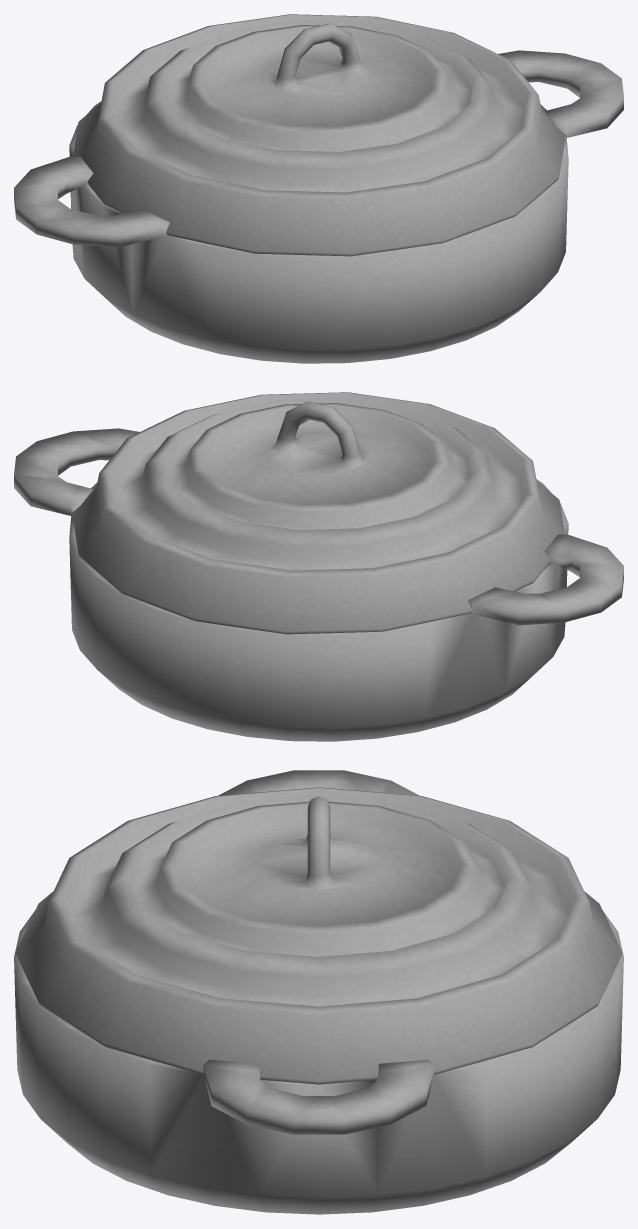
The model's file is cookingpot_001.glb.
3 views of the same model, one above another, from view 1: azimuth 30°, elevation 25°; view 2: azimuth 150°, elevation 25°; view 3: azimuth 270°, elevation 25° (orthographic). The views are drawn at different scales.
Parts seen in each view (by area): view 1: cookingpot.004, cookingpot.001; view 2: cookingpot.004, cookingpot.001; view 3: cookingpot.004, cookingpot.001.
Boxes of the visible parts, <box> form: cookingpot.004: <box>73,14,565,256</box>; cookingpot.001: <box>14,50,623,363</box>; cookingpot.004: <box>72,392,564,634</box>; cookingpot.001: <box>14,428,623,741</box>; cookingpot.004: <box>15,787,622,1084</box>; cookingpot.001: <box>14,770,623,1214</box>.
Bounding box in the file's own units: 1.16 × 0.4612 × 0.8571.
1 material, 1 textured.
